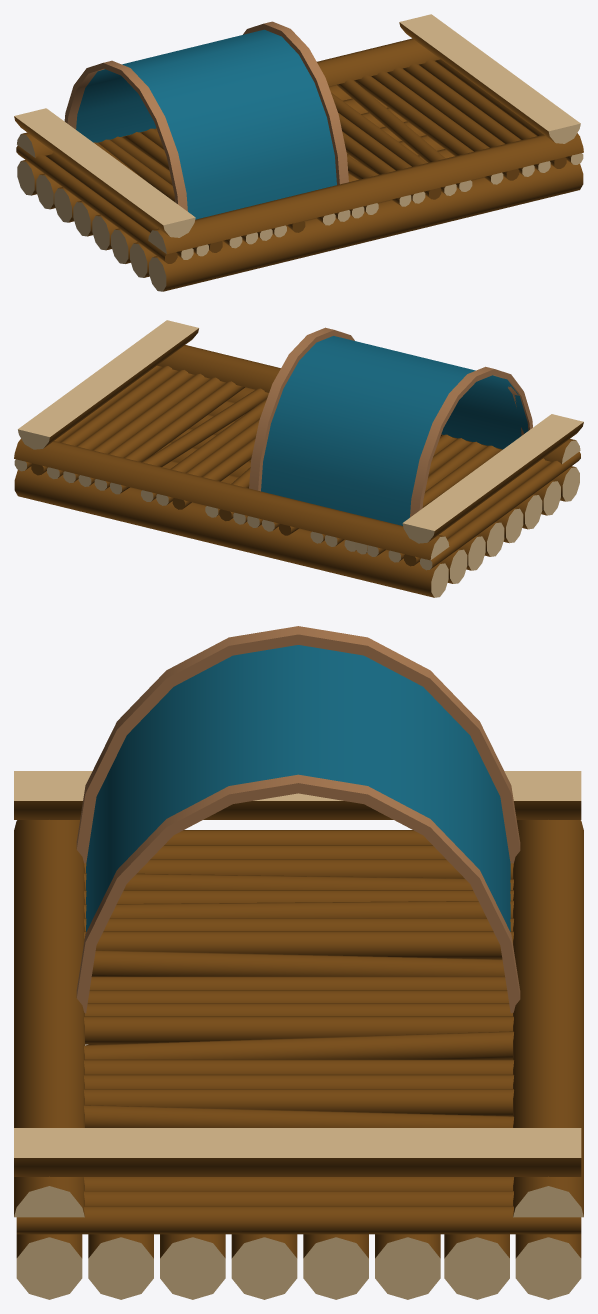
The model's file is RaftUpdate.fbx.
The picture shows the model from 3 angles, top to bottom: view 1: azimuth 30°, elevation 25°; view 2: azimuth 150°, elevation 25°; view 3: azimuth 270°, elevation 25°; orthographic projection. The views are drawn at different scales.
Visible parts, largest first — view 1: RaftUpdate; view 2: RaftUpdate; view 3: RaftUpdate.
Part boxes in pixels (left/top/right/bottom): RaftUpdate: left=14, top=14, right=583, bottom=291; RaftUpdate: left=14, top=320, right=583, bottom=597; RaftUpdate: left=14, top=626, right=583, bottom=1299.
Bounding box in the file's own units: 2664 × 1003 × 1646.
